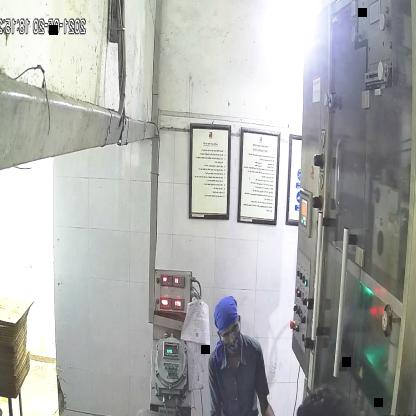goggles: (216, 317, 243, 345)
